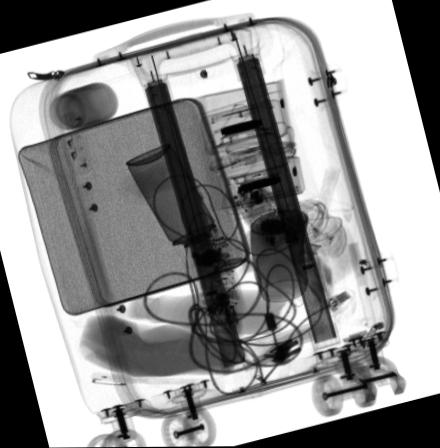Sprayer: (125, 143, 227, 267)
